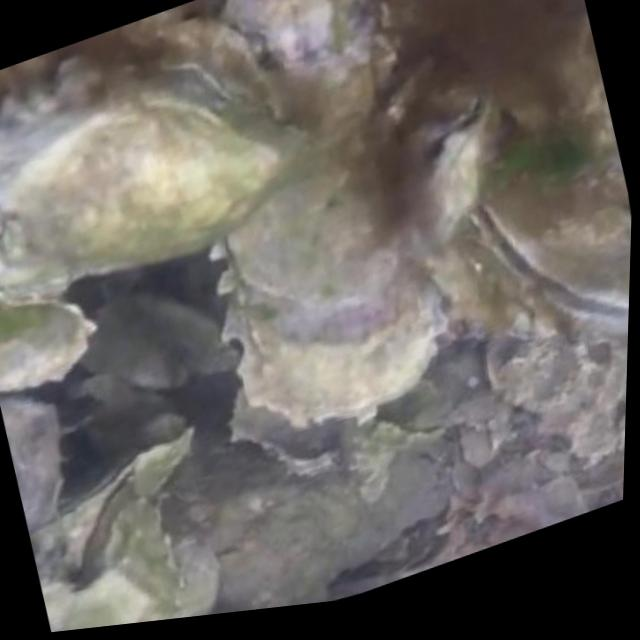Oyster-Closed: (0, 61, 295, 274)
Oyster-Indeterminate: (230, 111, 441, 429)
Oyster-Open: (460, 3, 631, 320), (426, 94, 497, 222)
